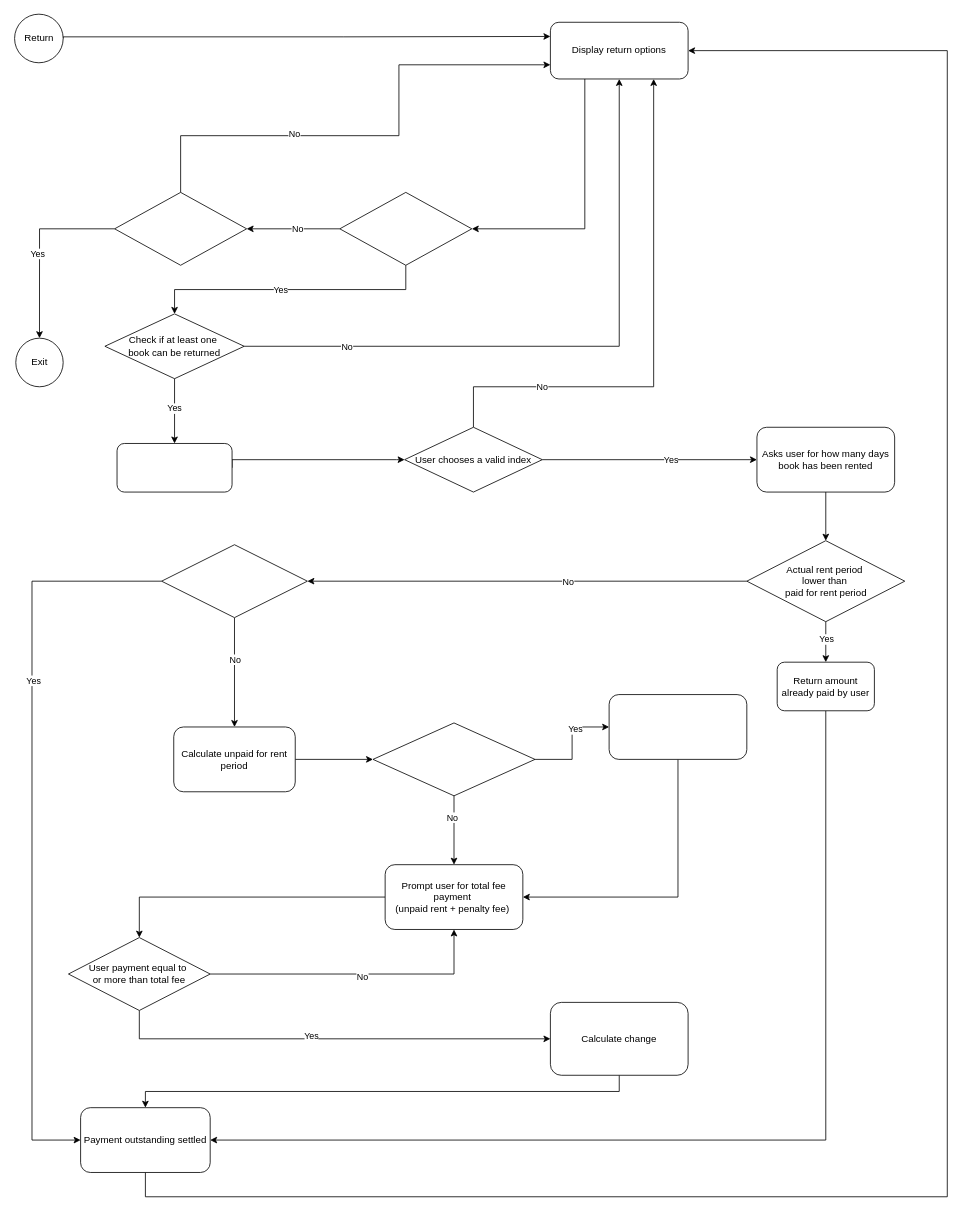
Image size: 968x1217. Some labels were removed from this diagram. Each missing label, with the centre of its shape:
"Actual rent period equal to paid for rent period" goes at point (234, 581).
"Actual rent period exceeds allowed rental period" goes at point (453, 759).
"Calculate penalty fee" goes at point (677, 726).
"Prompt user for book index" goes at point (174, 467).
"User wants to exit" goes at point (180, 228).
"User wants to return a book" goes at point (405, 228).
